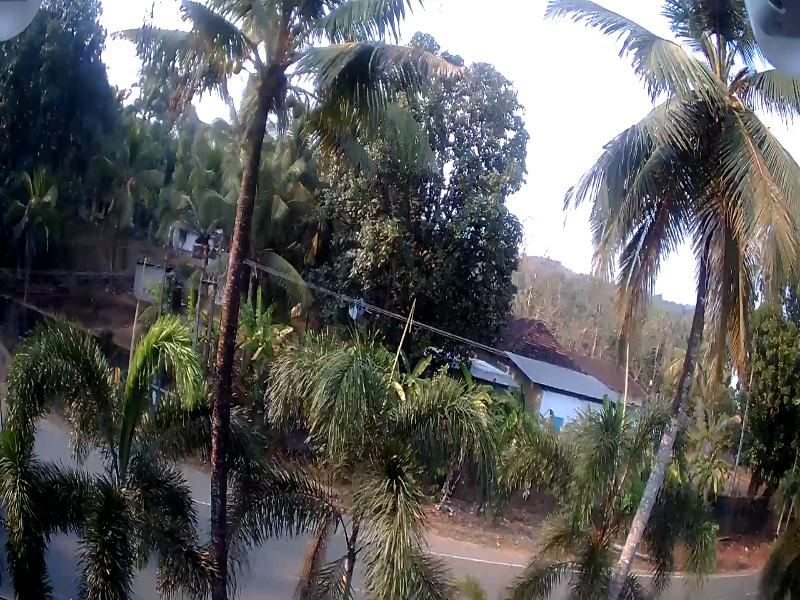coconut: (292, 105, 305, 128), (233, 60, 247, 77), (282, 92, 290, 106)
